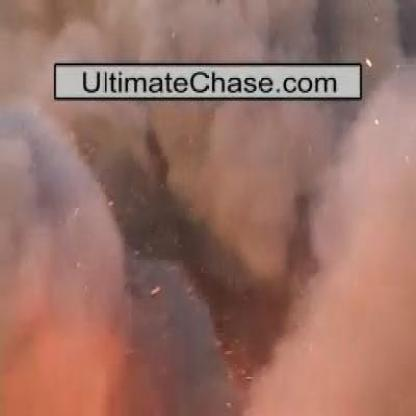-: (13, 101, 392, 390), (33, 5, 363, 60)
